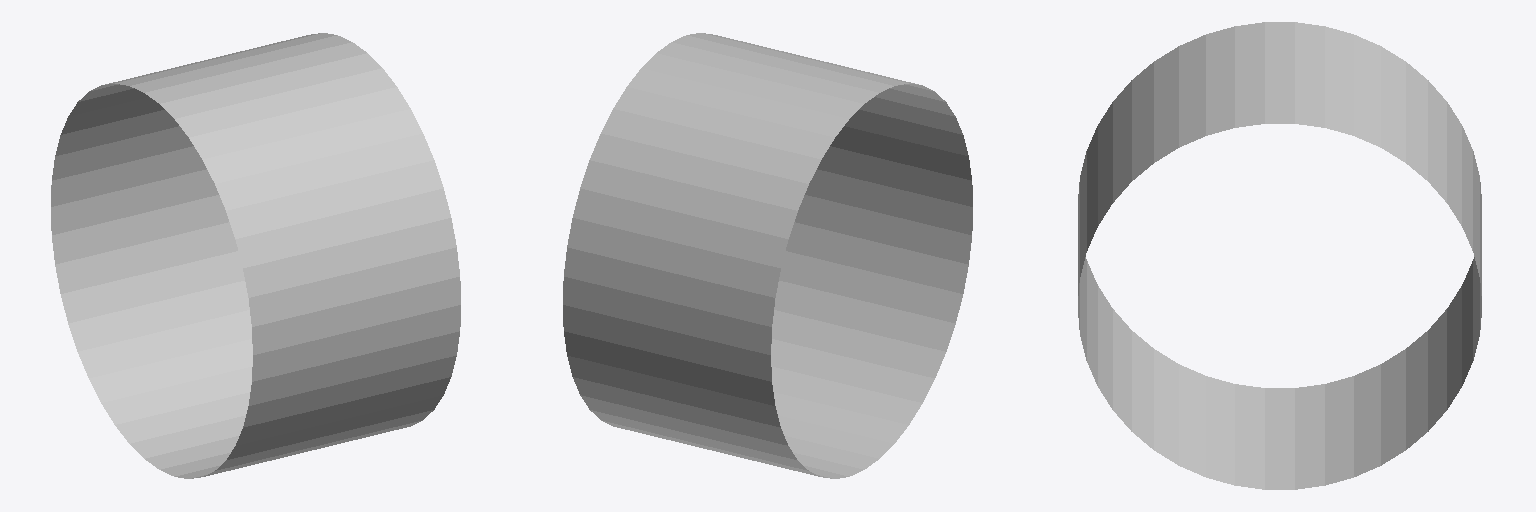
Rendered from Squirrel Wheel.obj.
The picture shows the model from 3 angles: view 1: azimuth 30°, elevation 25°; view 2: azimuth 150°, elevation 25°; view 3: azimuth 270°, elevation 25°; orthographic projection.
Bounding box in the file's own units: 44 × 73.79 × 74.